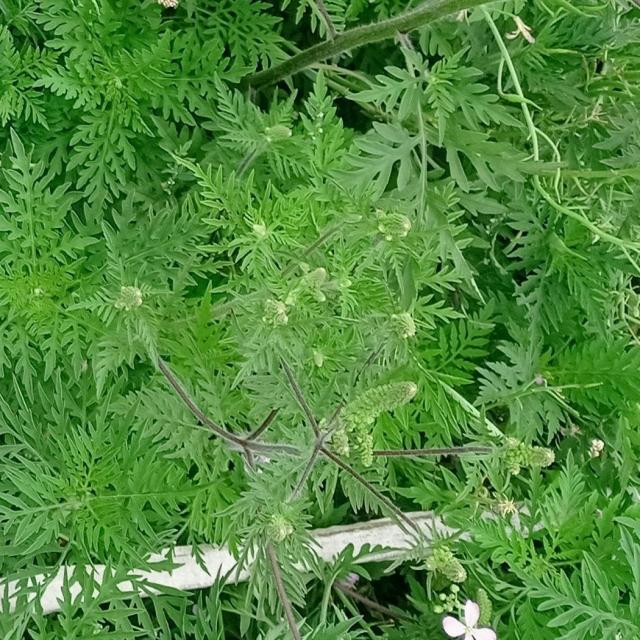AMBEL: (140, 194, 566, 639), (260, 0, 639, 219), (0, 0, 247, 207), (0, 129, 175, 393), (0, 364, 213, 564), (0, 556, 169, 639), (545, 492, 639, 639), (90, 216, 160, 332)
